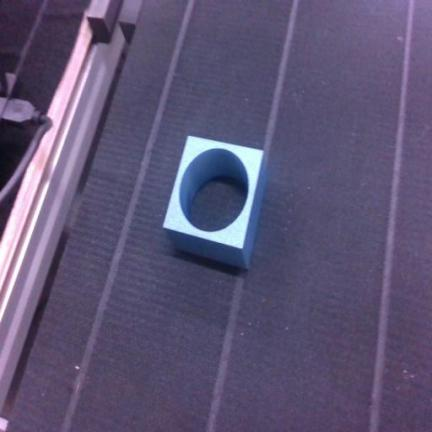hole: (163, 137, 265, 268)
